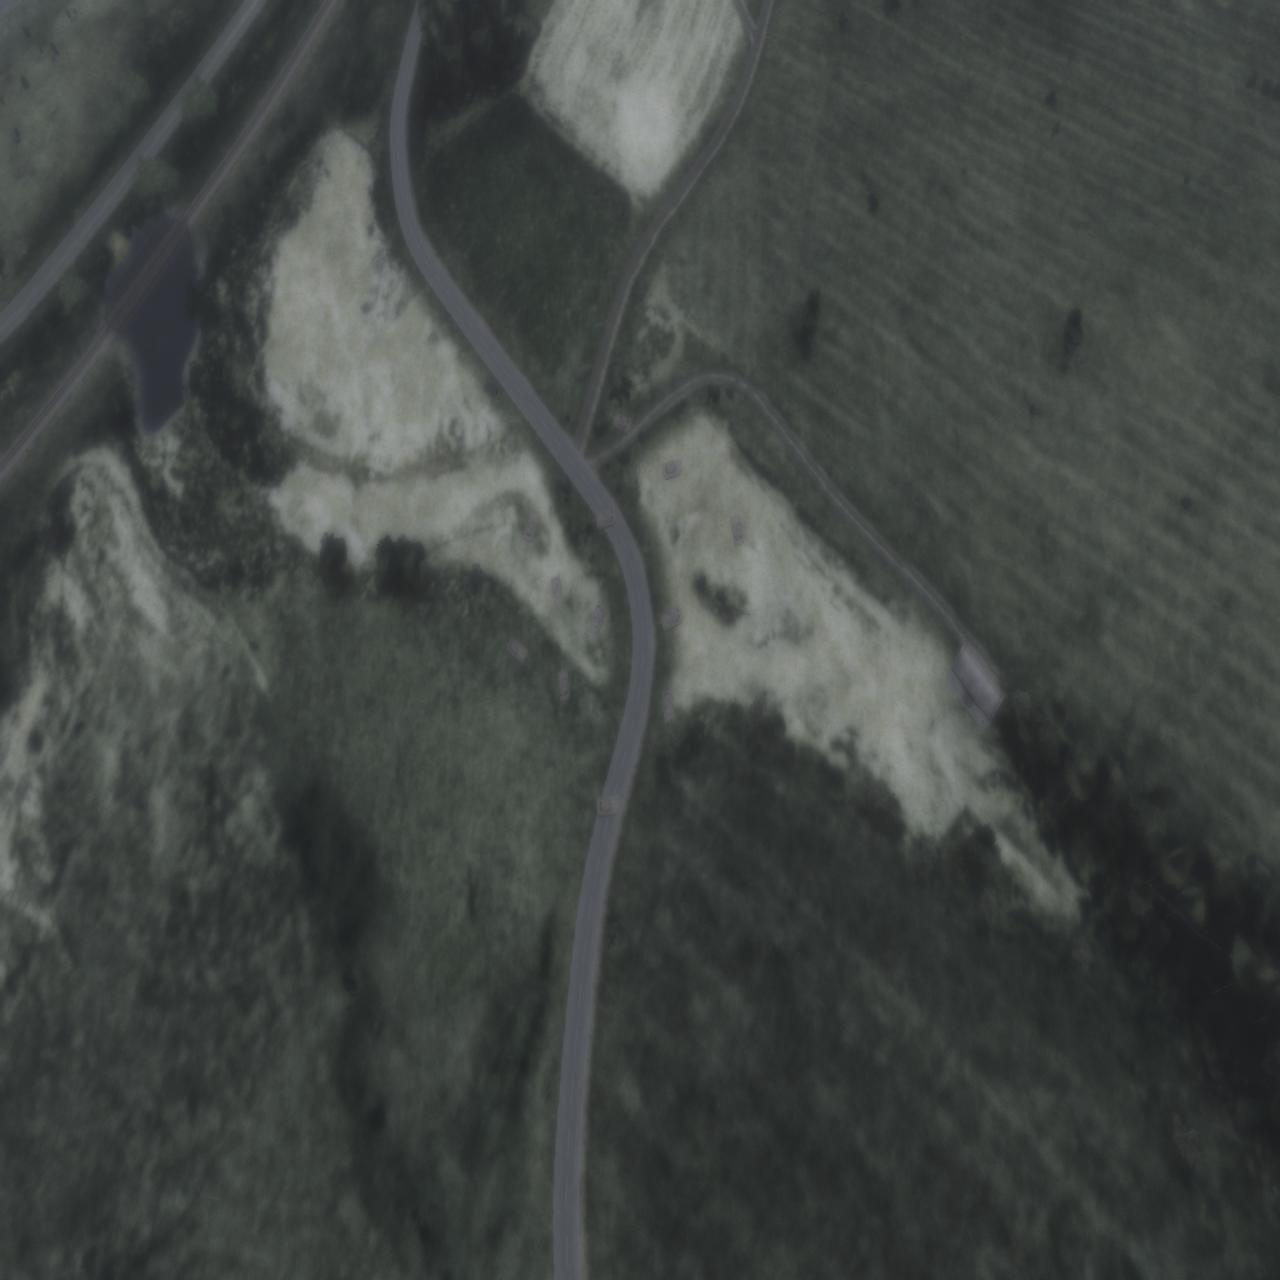MIL_Veh: (654, 606, 685, 638), (586, 601, 610, 641), (508, 633, 531, 669), (554, 659, 572, 704), (585, 506, 615, 531), (595, 792, 622, 818), (611, 409, 635, 436), (550, 576, 567, 613), (660, 688, 676, 727), (730, 512, 745, 551), (522, 511, 539, 542), (662, 459, 685, 482)
